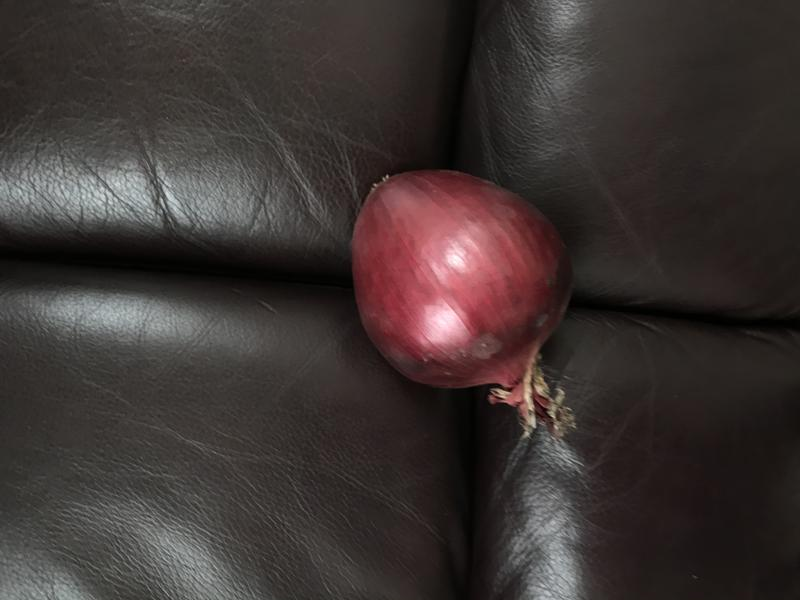purple_onion: (338, 156, 623, 456)
